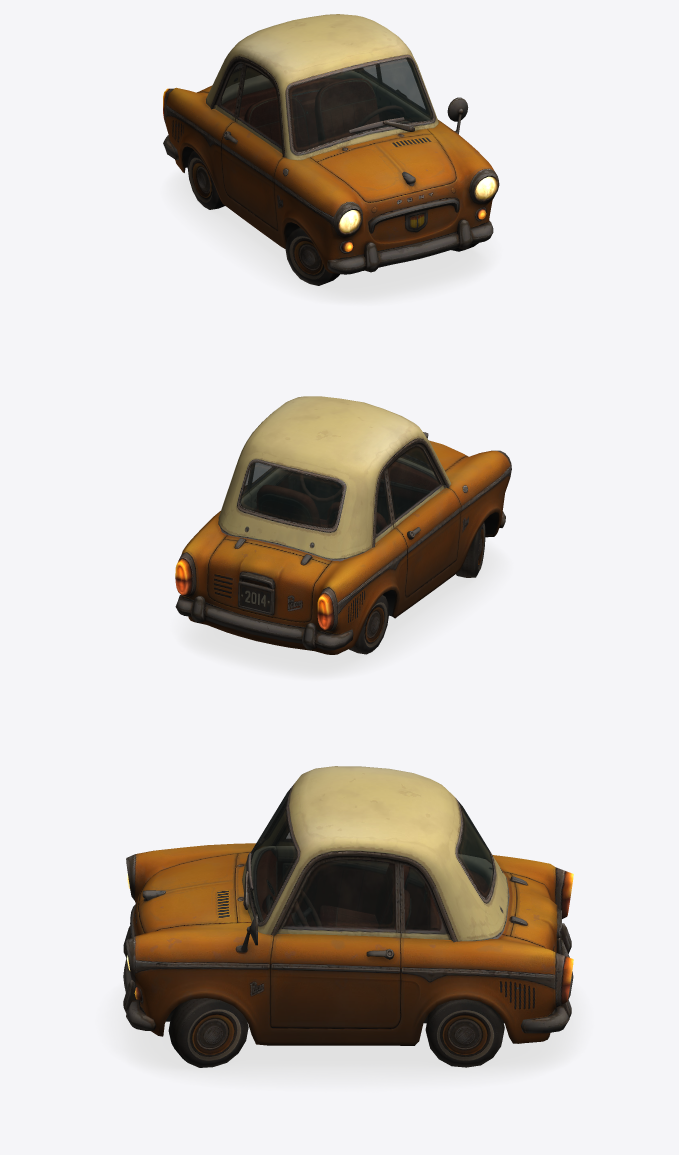
File: car1.gltf
The picture shows the model from 3 angles, top to bottom: view 1: azimuth 30°, elevation 25°; view 2: azimuth 150°, elevation 25°; view 3: azimuth 270°, elevation 25°; orthographic projection. The views are drawn at different scales.
Bounding box in the file's own units: 812 × 375 × 961.
Materials: 4 (4 with a texture image).
